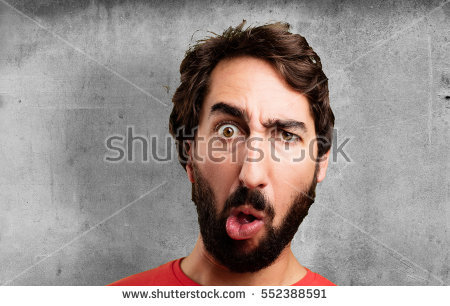confused: (200, 87, 309, 267)
